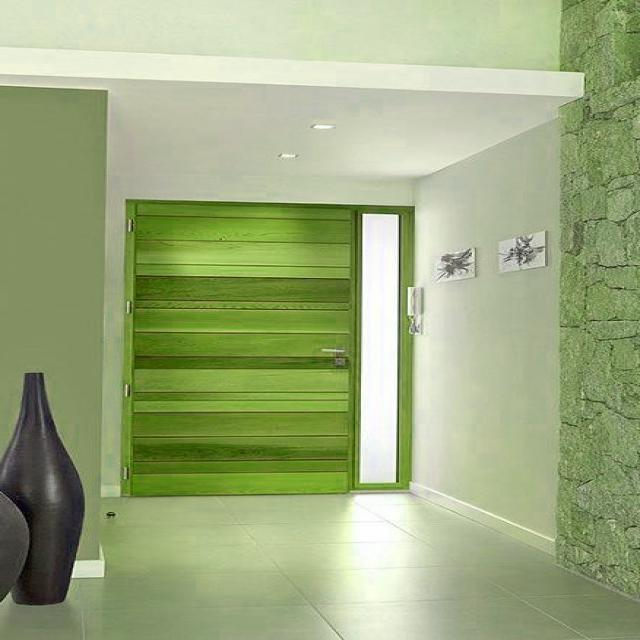door: (129, 197, 358, 492)
